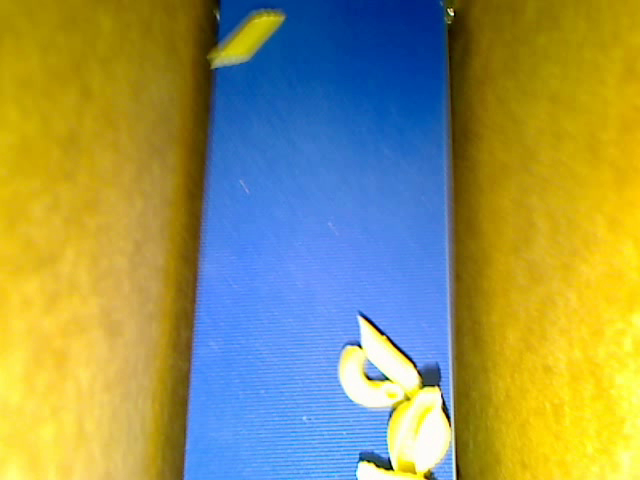elbow: (338, 344, 405, 408)
penne: (356, 313, 422, 399), (207, 13, 283, 69)
shell: (386, 385, 450, 476), (355, 461, 425, 479)
